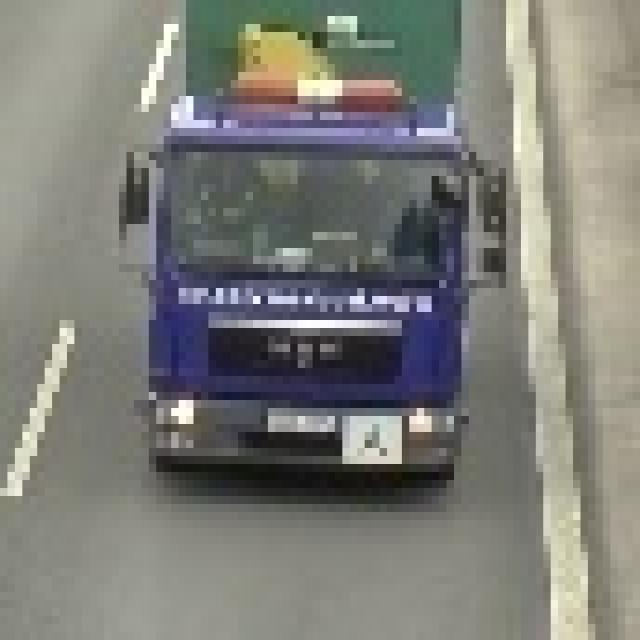truck: (112, 0, 506, 472)
